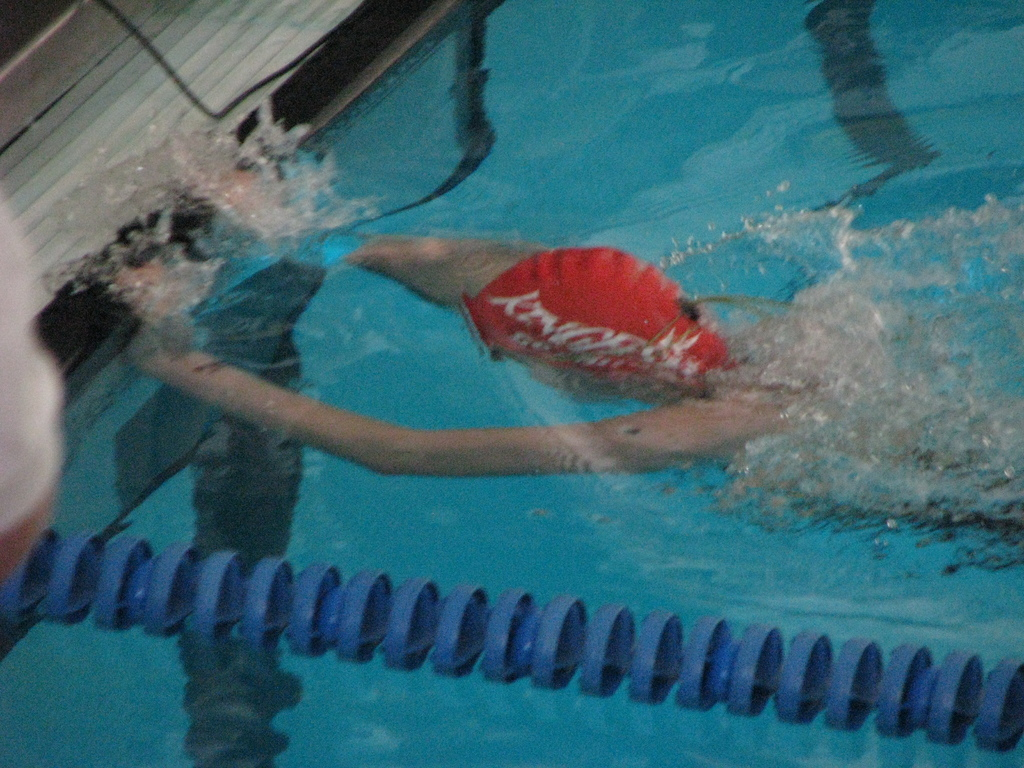Person: (112, 165, 911, 477), (0, 188, 67, 585)
